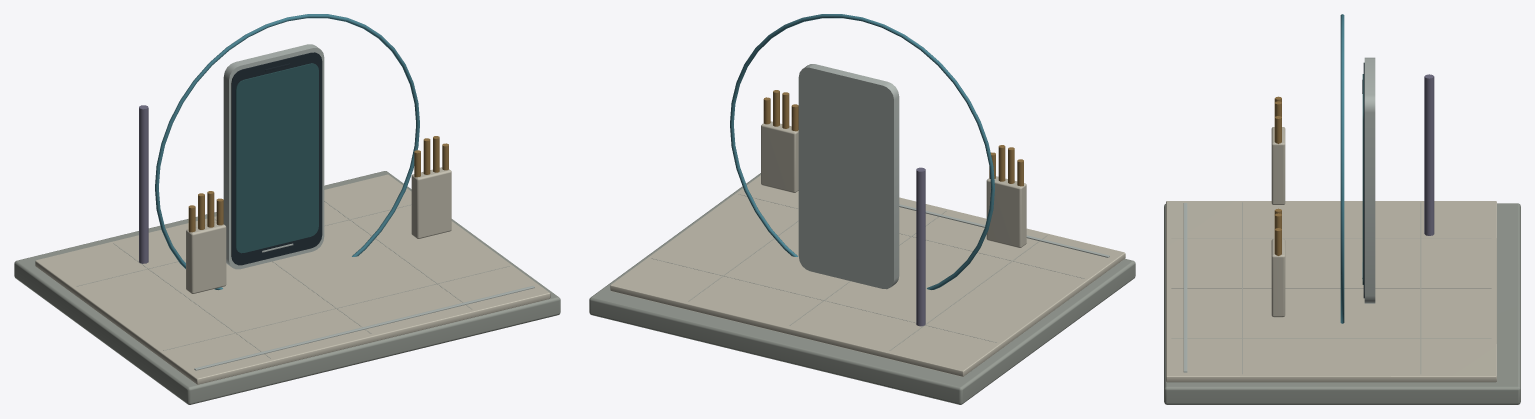
Rendered from idea-d3a22fb0.glb.
3 renders of one model, left to right at view 1: azimuth 30°, elevation 25°; view 2: azimuth 150°, elevation 25°; view 3: azimuth 270°, elevation 25°, orthographic.
Parts seen in each view (by area): view 1: Karmic Spatial Interaction Engine; view 2: Karmic Spatial Interaction Engine; view 3: Karmic Spatial Interaction Engine.
Boxes of the visible parts, x1,y1,x2,y2 form: Karmic Spatial Interaction Engine: (14, 14, 560, 404); Karmic Spatial Interaction Engine: (589, 14, 1135, 404); Karmic Spatial Interaction Engine: (1164, 14, 1520, 404).
Size of the model in its own units: 4.8 by 3.43 by 3.9.
